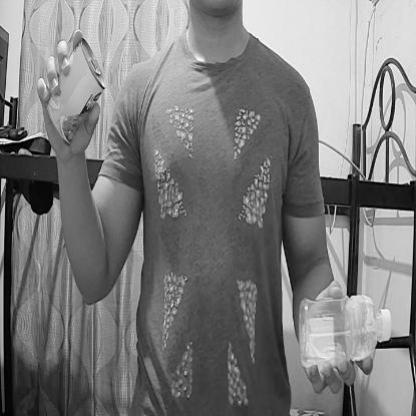Plastic Bottle: (297, 292, 393, 389)
